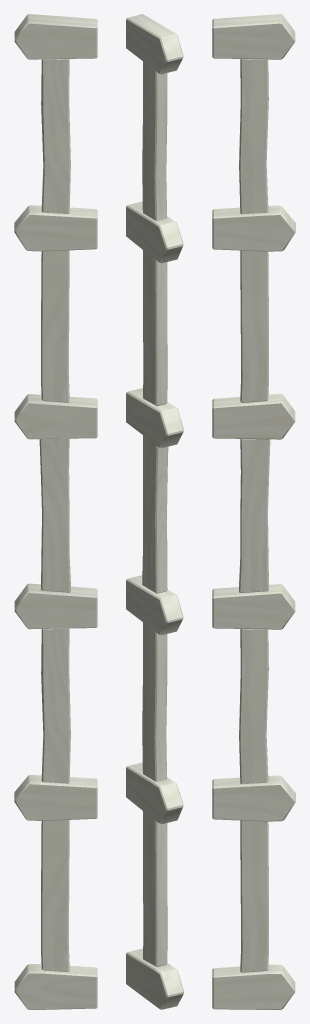
File: FenceLong.FBX
3 views of the same model, side by side, from view 1: azimuth 90°, elevation 25°; view 2: azimuth 210°, elevation 25°; view 3: azimuth 270°, elevation 25° (orthographic).
Visible parts, largest first — view 1: polySurface2483_1__CommonWood03; view 2: polySurface2483_1__CommonWood03; view 3: polySurface2483_1__CommonWood03.
Boxes of the visible parts, x1,y1,x2,y2 form: polySurface2483_1__CommonWood03: (14,14,97,1009); polySurface2483_1__CommonWood03: (126,14,183,1009); polySurface2483_1__CommonWood03: (212,14,295,1009).
Size of the model in its own units: 30.9 by 1561 by 119.
